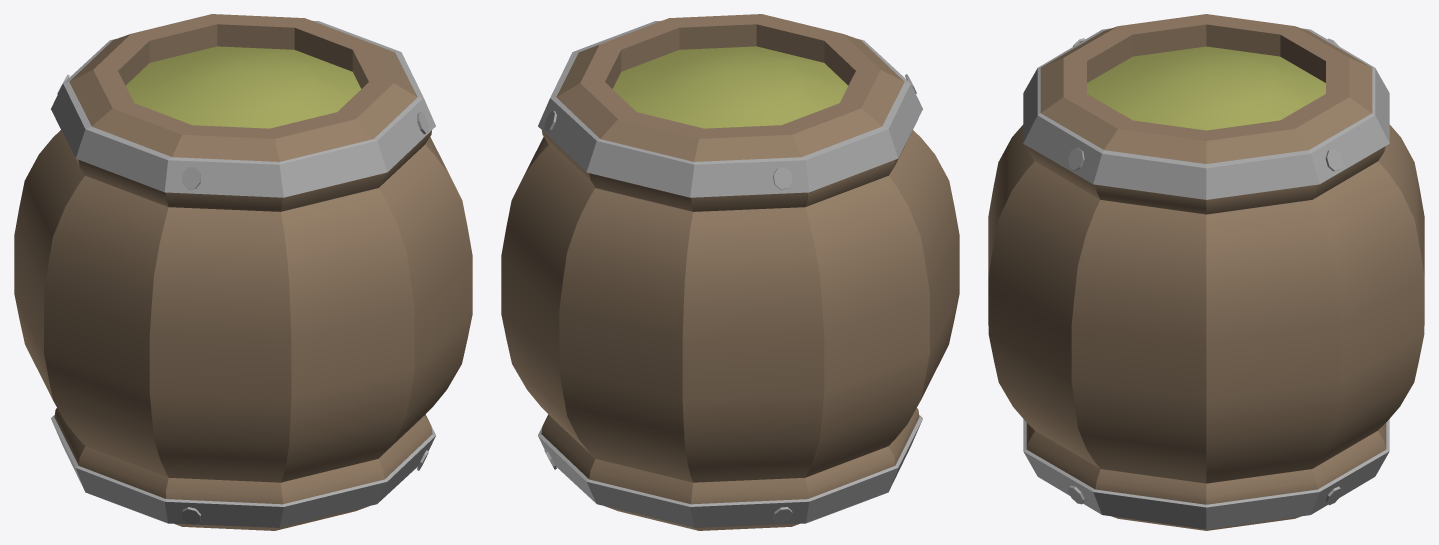
The model's file is small_barrel_01_filled 1.fbx.
The picture shows the model from 3 angles, left to right: view 1: azimuth 30°, elevation 25°; view 2: azimuth 150°, elevation 25°; view 3: azimuth 270°, elevation 25°; orthographic projection.
Parts seen in each view (by area): view 1: small_barrel_01_filled; view 2: small_barrel_01_filled; view 3: small_barrel_01_filled.
Boxes of the visible parts, box(x1,y1,x2,y2) form: small_barrel_01_filled: box(14, 14, 472, 530); small_barrel_01_filled: box(501, 14, 959, 530); small_barrel_01_filled: box(988, 14, 1424, 530).
Bounding box in the file's own units: 154 × 145 × 147.
